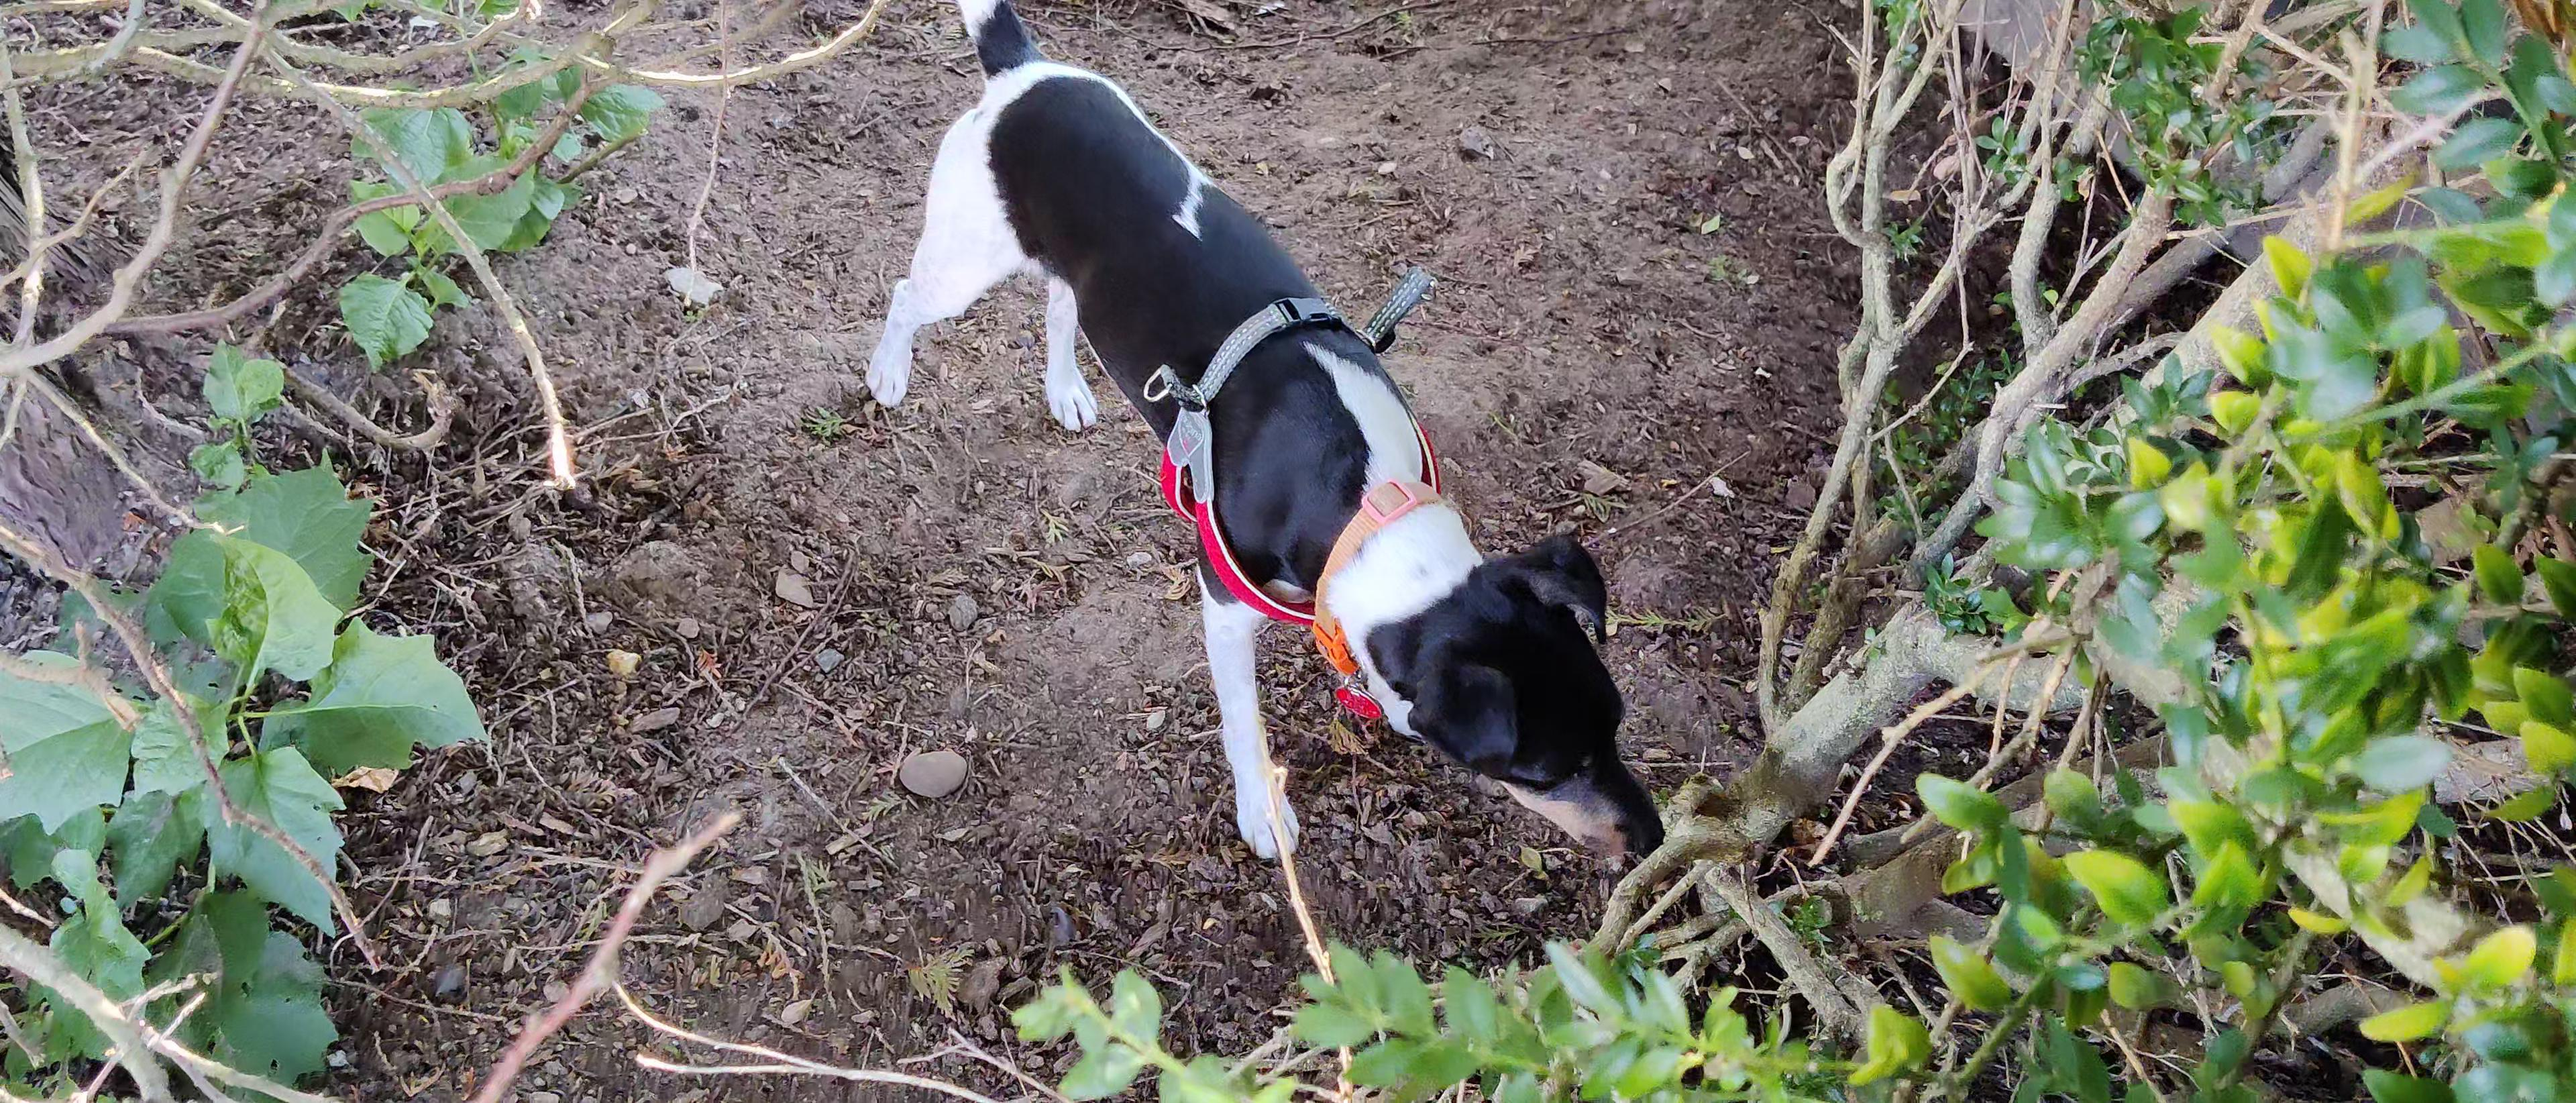Dog: (808, 0, 1677, 881)
